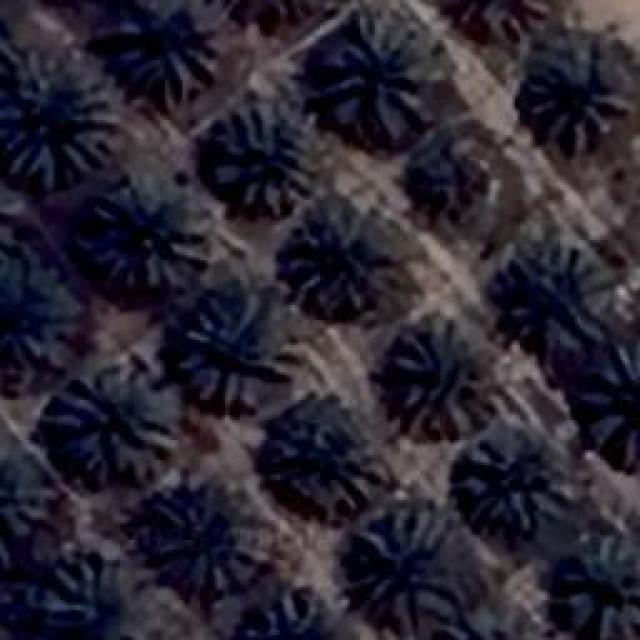PalmTree: (79, 40, 493, 620), (2, 55, 122, 190), (50, 365, 180, 480), (122, 481, 272, 579), (92, 172, 210, 290), (320, 20, 430, 145), (260, 408, 385, 514), (452, 428, 578, 530), (348, 505, 450, 630), (522, 32, 628, 150), (210, 100, 315, 218), (388, 315, 490, 435), (280, 205, 390, 313), (505, 238, 600, 354), (110, 0, 215, 102), (175, 305, 270, 405), (15, 567, 132, 640), (560, 538, 638, 638), (582, 340, 638, 468), (0, 456, 60, 566), (408, 126, 474, 212), (220, 602, 335, 640), (450, 0, 548, 40), (0, 158, 21, 269), (210, 0, 322, 19), (0, 156, 16, 270), (0, 0, 28, 64)
